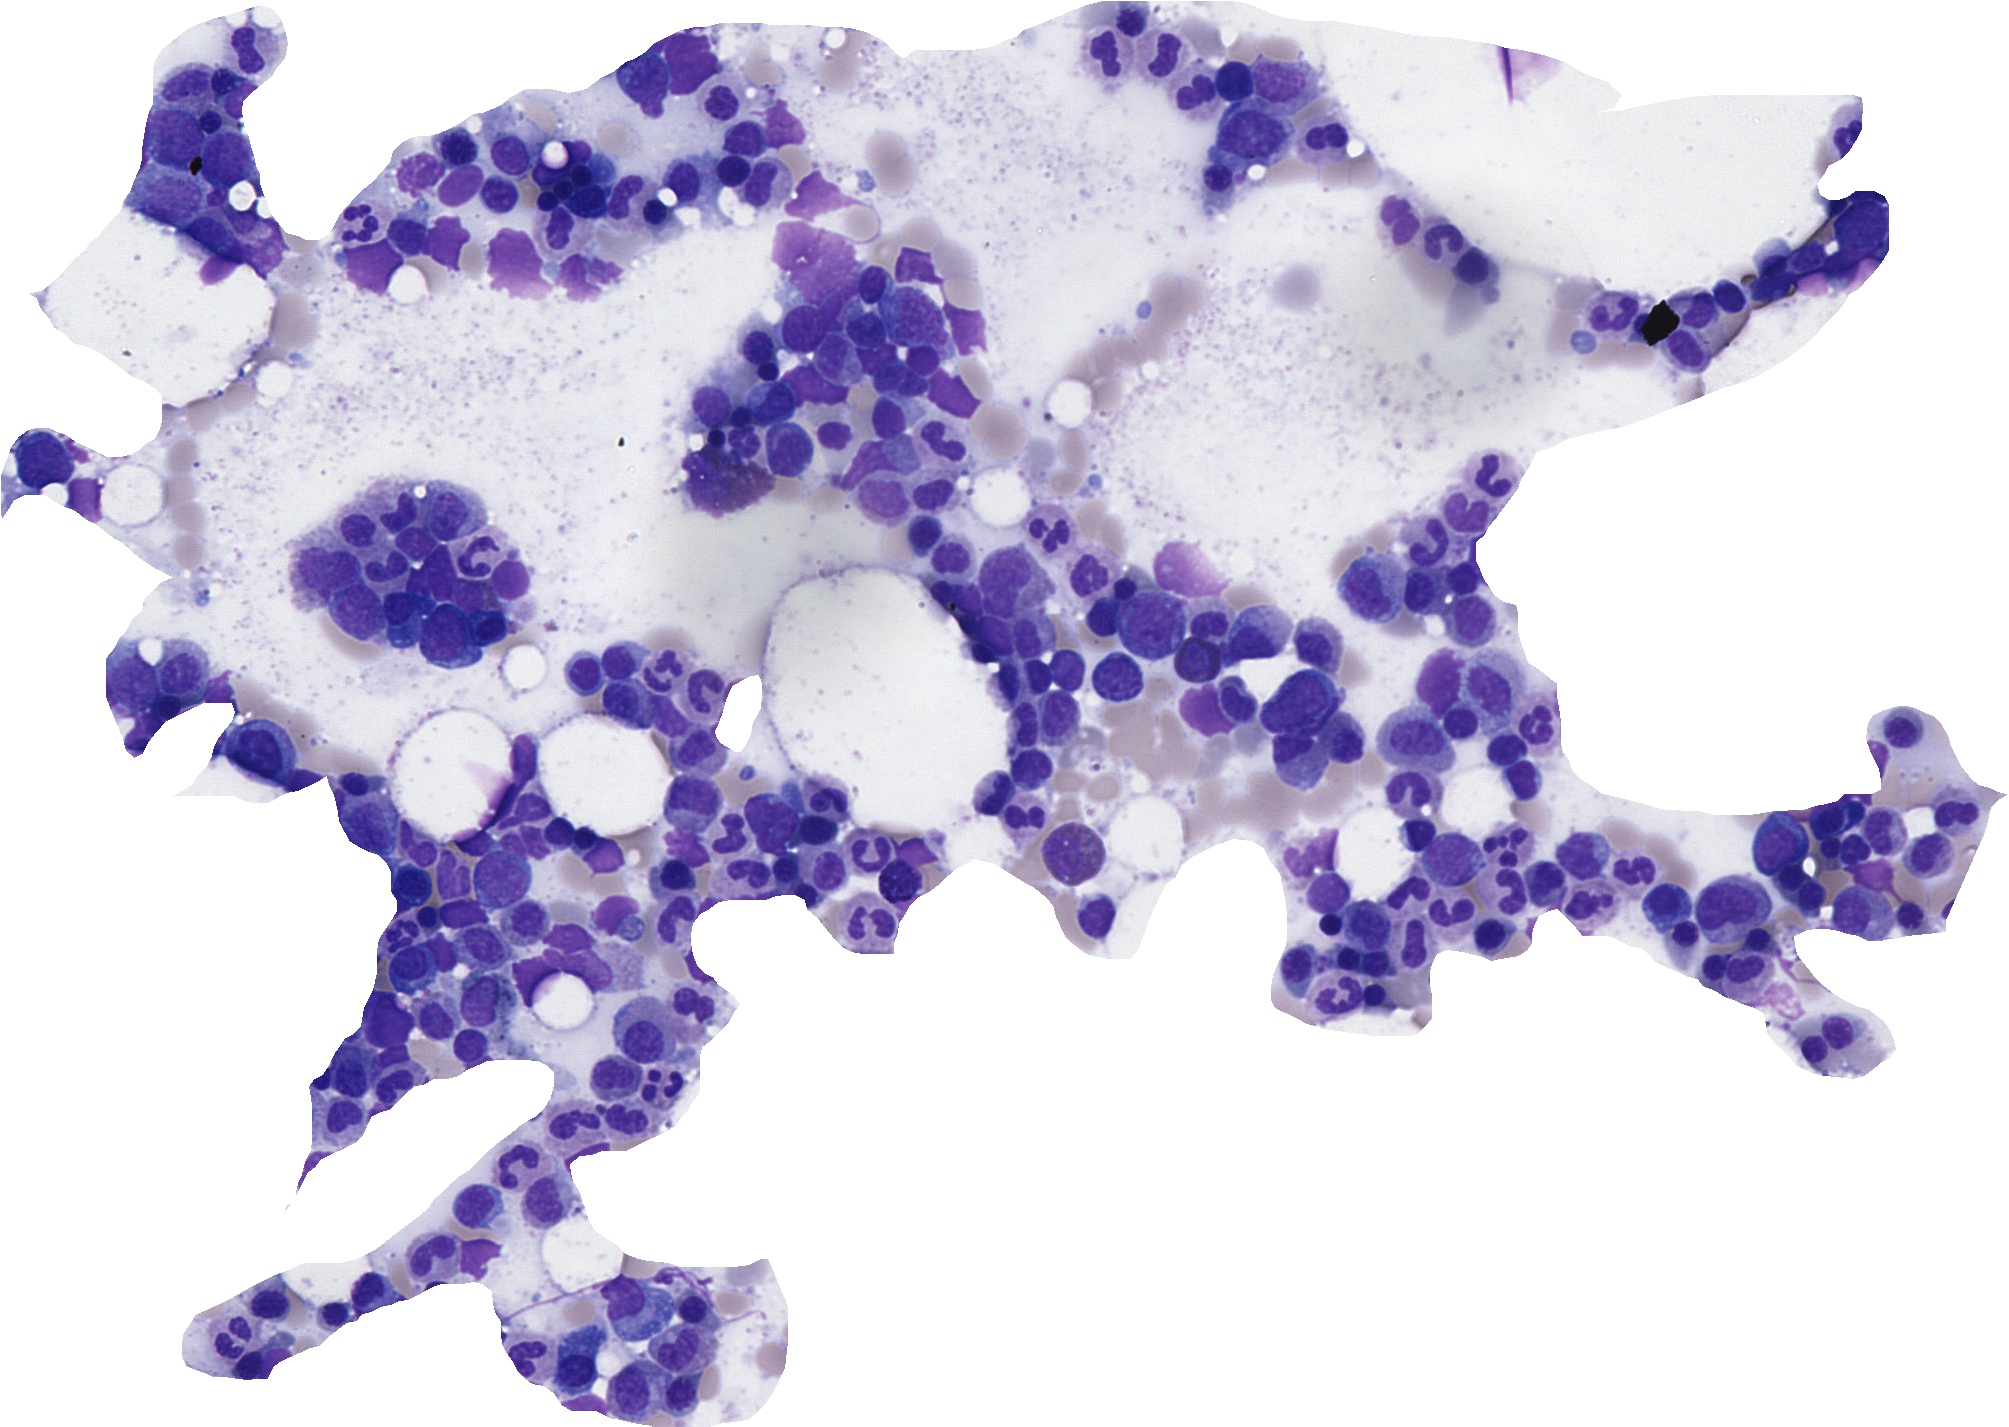objectness: (1611, 849, 1662, 900), (649, 893, 700, 944), (1407, 517, 1458, 568), (673, 724, 724, 775), (1234, 608, 1285, 659), (456, 920, 506, 971), (1858, 805, 1909, 856), (1045, 826, 1096, 877), (405, 1232, 456, 1283), (1174, 66, 1225, 117), (1722, 950, 1773, 1001), (1388, 917, 1439, 968), (151, 113, 202, 164), (327, 582, 378, 633), (944, 303, 994, 354), (893, 289, 944, 340), (56, 473, 107, 524), (889, 825, 940, 876), (544, 910, 595, 961), (510, 948, 561, 999), (1818, 1002, 1868, 1053), (1374, 195, 1425, 246), (581, 941, 632, 991), (462, 602, 513, 653), (1519, 859, 1570, 910), (347, 235, 398, 286), (1004, 741, 1055, 792), (923, 531, 974, 582), (876, 425, 927, 476), (1039, 646, 1090, 697), (1496, 754, 1547, 805), (628, 188, 679, 239), (1686, 944, 1737, 995), (1350, 971, 1401, 1022), (760, 845, 811, 896), (185, 96, 236, 147), (872, 854, 923, 903), (205, 1313, 256, 1362), (1424, 897, 1475, 947), (1513, 701, 1564, 751), (1478, 868, 1529, 917), (1084, 26, 1133, 77), (374, 910, 425, 959), (1064, 548, 1113, 599), (1313, 970, 1364, 1019), (636, 646, 686, 697), (723, 849, 772, 900), (675, 669, 724, 720), (1411, 215, 1462, 264), (550, 1100, 601, 1149), (1002, 791, 1052, 842), (505, 1331, 554, 1382), (1384, 869, 1433, 920), (916, 419, 967, 468), (338, 198, 388, 249), (1570, 879, 1620, 930), (704, 811, 754, 862), (493, 1140, 544, 1189), (718, 415, 767, 466), (1007, 612, 1056, 663), (1658, 321, 1709, 371), (1300, 618, 1350, 669), (814, 335, 865, 385), (1668, 283, 1719, 332), (500, 897, 550, 948), (795, 839, 845, 890), (622, 1005, 673, 1055), (1316, 717, 1367, 766), (602, 1093, 652, 1144), (738, 158, 788, 208), (368, 480, 417, 531), (967, 766, 1018, 815), (1932, 785, 1983, 834), (666, 984, 715, 1035), (523, 1175, 573, 1226), (369, 1059, 418, 1110), (225, 26, 276, 76), (1297, 113, 1347, 164), (588, 1052, 639, 1101), (1425, 834, 1476, 883), (1123, 598, 1174, 647), (761, 425, 812, 474), (15, 440, 66, 490), (476, 849, 525, 900), (852, 335, 903, 385), (493, 239, 542, 290), (403, 550, 452, 601), (1706, 270, 1756, 321), (693, 76, 744, 125), (536, 164, 585, 215), (1791, 1024, 1842, 1073), (158, 649, 207, 700), (476, 766, 527, 815), (838, 442, 888, 493), (805, 406, 855, 456), (531, 808, 581, 859), (703, 456, 754, 505), (662, 42, 712, 93), (1784, 235, 1835, 284), (1746, 253, 1796, 304), (879, 351, 928, 402), (1251, 60, 1302, 110), (581, 831, 632, 880), (1075, 595, 1126, 644), (516, 181, 565, 232), (500, 819, 550, 869), (432, 161, 482, 212), (899, 332, 950, 381), (662, 158, 712, 208), (842, 304, 893, 354), (386, 819, 435, 869), (449, 812, 499, 863), (429, 856, 480, 905), (1472, 663, 1521, 713), (784, 236, 835, 286), (439, 886, 488, 937), (1391, 717, 1441, 768), (188, 205, 238, 256), (364, 1030, 415, 1080), (465, 976, 516, 1025), (375, 593, 426, 642), (1305, 869, 1354, 920), (1092, 650, 1143, 700), (709, 145, 760, 195), (859, 480, 910, 530), (147, 171, 196, 222), (774, 303, 823, 354), (746, 374, 795, 425), (1414, 653, 1465, 703), (689, 415, 740, 465), (1303, 899, 1354, 948), (967, 613, 1018, 663), (415, 988, 465, 1039), (378, 208, 428, 259), (1479, 723, 1529, 774), (482, 131, 533, 181), (1351, 564, 1401, 615), (451, 1232, 500, 1283), (792, 357, 842, 408), (326, 1046, 375, 1097), (1276, 836, 1326, 885), (713, 391, 763, 442), (216, 188, 266, 239), (1448, 595, 1499, 644), (684, 385, 733, 436), (1560, 829, 1609, 880), (1070, 890, 1120, 941), (598, 635, 649, 684), (1391, 808, 1441, 859), (849, 263, 900, 312), (1011, 652, 1062, 701), (899, 508, 950, 558), (550, 1342, 601, 1391), (221, 1341, 270, 1391), (1464, 910, 1513, 961), (1734, 913, 1784, 964), (1323, 934, 1374, 984), (1272, 944, 1323, 993), (429, 124, 480, 173), (246, 1279, 295, 1330), (1807, 792, 1856, 843), (670, 1283, 720, 1334), (1208, 56, 1257, 107), (1194, 154, 1245, 204), (656, 1368, 707, 1418), (985, 558, 1035, 608), (1337, 897, 1387, 948), (293, 541, 344, 590), (612, 1364, 661, 1415), (612, 1285, 661, 1334), (391, 945, 440, 995), (1212, 675, 1262, 724), (1385, 766, 1435, 815), (636, 1061, 686, 1110), (503, 785, 553, 834), (845, 832, 894, 882), (801, 769, 851, 819), (1586, 287, 1635, 337), (1025, 508, 1075, 558), (1819, 103, 1868, 153), (1464, 453, 1513, 502), (846, 897, 896, 947), (451, 533, 500, 582), (1487, 820, 1536, 869), (320, 1090, 369, 1140), (164, 60, 213, 110), (1909, 834, 1958, 883), (908, 463, 957, 513), (1183, 598, 1232, 647), (1272, 732, 1322, 781), (1171, 635, 1220, 684), (602, 175, 652, 224), (1138, 29, 1187, 79), (357, 542, 406, 591), (656, 1324, 706, 1373), (534, 207, 584, 256), (747, 798, 797, 848), (1751, 820, 1801, 869), (422, 610, 471, 659), (1838, 208, 1887, 258), (1226, 103, 1276, 153), (621, 54, 670, 103), (1274, 678, 1323, 727), (201, 137, 250, 187), (1396, 568, 1445, 618), (561, 650, 610, 700), (1098, 564, 1147, 613), (1001, 703, 1050, 752), (562, 178, 612, 227), (985, 658, 1035, 707), (229, 729, 278, 778), (642, 693, 692, 743), (344, 1266, 394, 1316), (1641, 879, 1691, 928), (244, 227, 293, 276), (1814, 246, 1864, 295), (923, 369, 973, 419), (1160, 548, 1209, 598), (554, 151, 604, 201), (791, 165, 840, 215), (866, 395, 916, 445), (417, 925, 466, 974), (780, 865, 829, 914), (934, 571, 984, 621), (1850, 851, 1899, 900), (812, 275, 862, 324), (658, 822, 707, 871), (1441, 486, 1490, 536), (486, 558, 536, 607), (1442, 553, 1492, 602), (1036, 695, 1086, 744), (500, 729, 550, 778), (891, 239, 940, 289), (1436, 697, 1486, 746), (557, 250, 607, 300), (590, 885, 639, 934), (1830, 825, 1879, 874), (144, 680, 193, 729), (105, 663, 154, 712), (418, 219, 468, 269), (744, 347, 794, 397), (392, 145, 442, 195), (1178, 684, 1228, 734), (758, 102, 808, 151), (446, 573, 496, 622), (445, 1022, 494, 1072), (451, 1183, 500, 1232), (720, 114, 769, 164), (1878, 701, 1927, 751), (473, 170, 522, 219), (1658, 910, 1708, 959), (330, 760, 380, 809), (1448, 242, 1498, 292), (199, 57, 249, 107), (391, 860, 440, 910), (732, 321, 781, 371), (1767, 854, 1816, 903), (647, 849, 696, 899), (561, 815, 610, 865), (307, 1291, 357, 1341), (1353, 939, 1402, 988), (1887, 893, 1936, 942), (1787, 873, 1836, 922), (791, 805, 840, 854), (403, 891, 452, 941), (1805, 825, 1855, 874), (669, 775, 718, 825), (1700, 880, 1750, 930), (344, 798, 394, 848), (1103, 0, 1152, 46)
